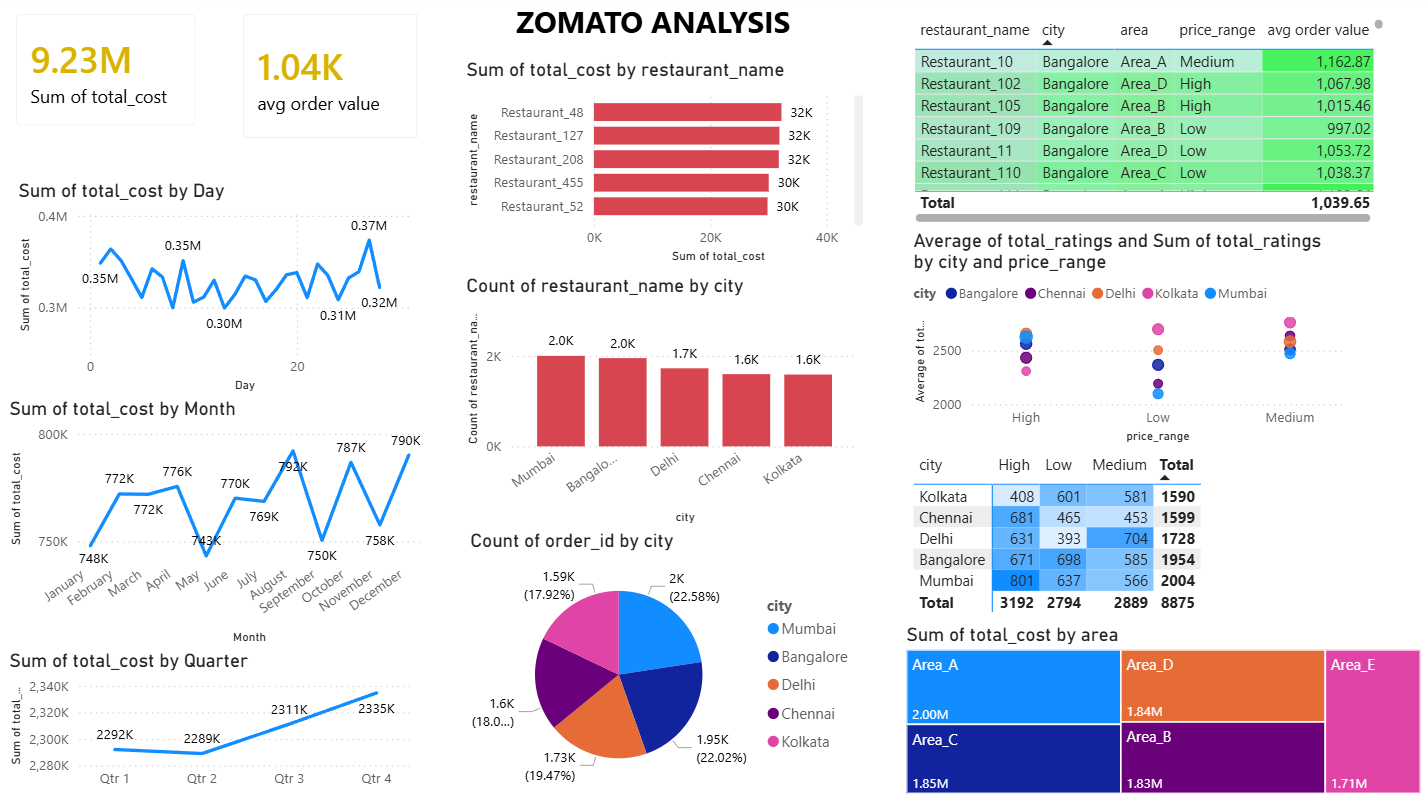

Layout of this report page (visuals, bound fields, positions):
{"tool":"powerbi","page":{"name":"Page 2","canvas":[1280,720],"ordinal":1},"visuals":[{"type":"treemap","fields":{"Group":["Zomato_data.area"],"Values":["Sum(Zomato_data.total_cost)"]},"box":[809.6,562.4,470.1,157.6],"z":0},{"type":"pivotTable","fields":{"Rows":["Zomato_data.city"],"Columns":["Zomato_data.price_range"],"Values":["Count(Zomato_data.order_id)"]},"box":[815.8,405.7,287.5,156.7],"z":1000},{"type":"cardVisual","fields":{"Data":["Sum(Zomato_data.total_cost)"]},"box":[0,0,195.2,134.3],"z":2000},{"type":"cardVisual","fields":{"Data":["Zomato_Orders -updated - Zomato_Orders -updated csv.avg order value"]},"box":[203.3,0,190.7,146],"z":3000},{"type":"tableEx","fields":{"Values":["Zomato_data.restaurant_name","Zomato_data.city","Zomato_data.area","Zomato_data.price_range","Zomato_Orders -updated - Zomato_Orders -updated csv.avg order value"]},"box":[815.8,16.1,430.7,193.4],"z":4000},{"type":"clusteredBarChart","fields":{"Category":["Zomato_data.restaurant_name"],"Y":["Sum(Zomato_data.total_cost)"]},"box":[415.5,56.4,365.4,188.1],"z":5000},{"type":"lineChart","fields":{"Category":["Zomato_data.order_date.Variation.Date Hierarchy.Day"],"Y":["Sum(Zomato_data.total_cost)"]},"box":[14.3,164.8,361.8,195.2],"z":6000},{"type":"lineChart","fields":{"Category":["Zomato_data.order_date.Variation.Date Hierarchy.Month"],"Y":["Sum(Zomato_data.total_cost)"]},"box":[6.3,360,377.9,225.7],"z":7000},{"type":"lineChart","fields":{"Category":["Zomato_data.order_date.Variation.Date Hierarchy.Quarter"],"Y":["Sum(Zomato_data.total_cost)"]},"box":[6.3,585.7,369.9,134.3],"z":8000},{"type":"clusteredColumnChart","fields":{"Category":["Zomato_data.city"],"Y":["CountNonNull(Zomato_data.restaurant_name)"]},"box":[415.5,249.9,360.9,228.4],"z":9000},{"type":"pieChart","fields":{"Category":["Zomato_data.city"],"Y":["CountNonNull(Zomato_data.order_id)"]},"box":[419.1,478.2,357.3,241.8],"z":10000},{"type":"scatterChart","fields":{"X":["Zomato_data.price_range"],"Y":["Avg(Zomato_data.total_ratings)"],"Size":["Sum(Zomato_data.total_ratings)1"],"Series":["Zomato_data.city"]},"box":[815.8,209.6,394.9,196.1],"z":11000},{"type":"textbox","box":[415.5,0,343.9,45.7],"z":12000}]}

Visuals, with their boxes in screenshot pixels (x1, y1, x2, y2), scaled from the page's 1280x720 canvas onto the 1425x798 screenshot:
treemap - Zomato_data.area x Sum(Zomato_data.total_cost): x1=901, y1=623, x2=1424, y2=797
pivotTable - Zomato_data.city x Zomato_data.price_range: x1=908, y1=450, x2=1228, y2=623
cardVisual - Sum(Zomato_data.total_cost): x1=0, y1=0, x2=217, y2=149
cardVisual - Zomato_Orders -updated - Zomato_Orders -updated csv.avg order value: x1=226, y1=0, x2=439, y2=162
tableEx - Zomato_data.restaurant_name x Zomato_data.city: x1=908, y1=18, x2=1388, y2=232
clusteredBarChart - Zomato_data.restaurant_name x Sum(Zomato_data.total_cost): x1=463, y1=63, x2=869, y2=271
lineChart - Zomato_data.order_date.Variation.Date Hierarchy.Day x Sum(Zomato_data.total_cost): x1=16, y1=183, x2=419, y2=399
lineChart - Zomato_data.order_date.Variation.Date Hierarchy.Month x Sum(Zomato_data.total_cost): x1=7, y1=399, x2=428, y2=649
lineChart - Zomato_data.order_date.Variation.Date Hierarchy.Quarter x Sum(Zomato_data.total_cost): x1=7, y1=649, x2=419, y2=797
clusteredColumnChart - Zomato_data.city x CountNonNull(Zomato_data.restaurant_name): x1=463, y1=277, x2=864, y2=530
pieChart - Zomato_data.city x CountNonNull(Zomato_data.order_id): x1=467, y1=530, x2=864, y2=797
scatterChart - Zomato_data.price_range x Avg(Zomato_data.total_ratings): x1=908, y1=232, x2=1348, y2=450
textbox: x1=463, y1=0, x2=845, y2=51
